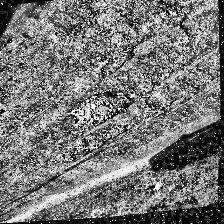pothole: (65, 86, 139, 134)
